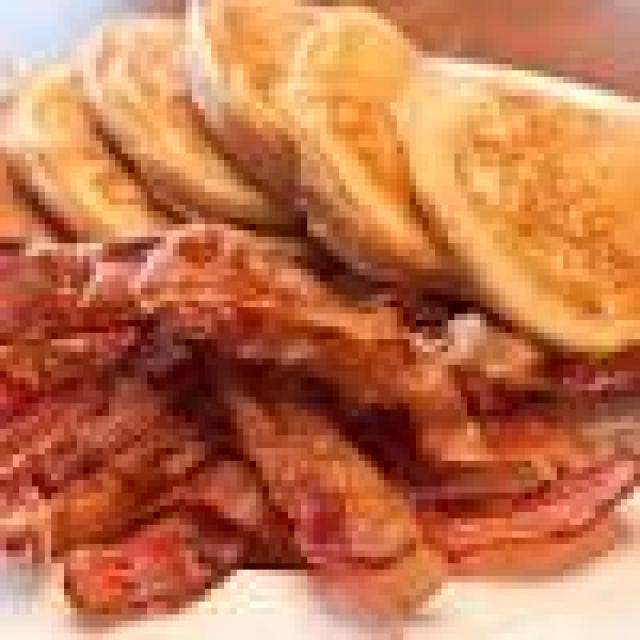bacon: (2, 263, 640, 613)
